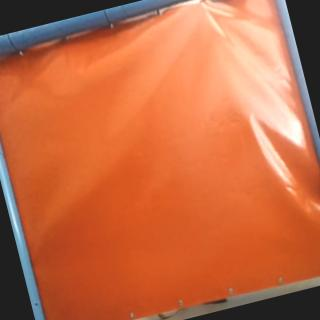Hit-hRxx: (193, 0, 210, 12)
